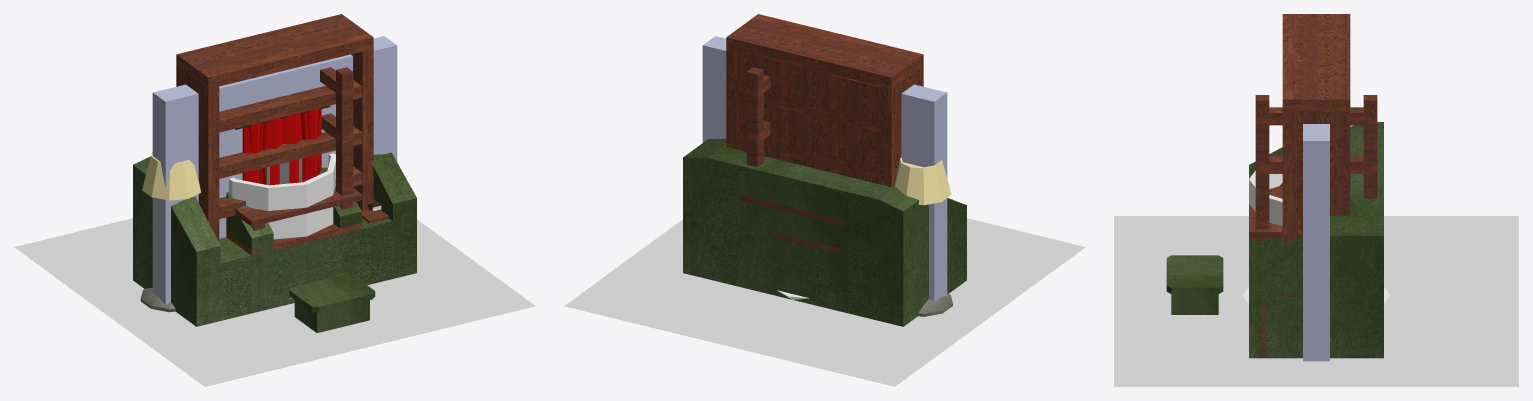
File: PSX_Household_Items_Pack.fbx
The picture shows the model from 3 angles, left to right: view 1: azimuth 30°, elevation 25°; view 2: azimuth 150°, elevation 25°; view 3: azimuth 270°, elevation 25°; orthographic projection. The views are drawn at different scales.
Parts seen in each view (by area): view 1: Carpet, Couch, Shelf, WallSimple, WallWithWindow, WallWithDoor, Chair, ArmChair, Mug, Footrest, CurtainClosed, StandingLamp (+2 smaller); view 2: Carpet, Couch, Shelf, ArmChair, WallSimple, WallWithDoor, Chair, StandingLamp, Table; view 3: Carpet, Couch, Shelf, WallSimple, Chair, Footrest, WallWithWindow, WallWithDoor, ArmChair, SideTable, Mug.
Boxes of the visible parts, x1,y1,x2,y2 form: Carpet: (14,218,535,386); Couch: (133,152,416,326); Shelf: (176,14,373,242); WallSimple: (152,36,397,304); WallWithWindow: (152,36,397,303); WallWithDoor: (152,36,397,303); Chair: (235,67,361,230); ArmChair: (226,167,361,312); Mug: (229,153,335,239); Footrest: (289,274,375,332); CurtainClosed: (235,105,330,185); StandingLamp: (140,151,200,312); Carpet: (564,218,1085,386); Couch: (683,139,966,326); Shelf: (726,14,923,187); ArmChair: (738,159,848,313); WallSimple: (702,36,947,302); WallWithDoor: (702,36,947,301); Chair: (738,67,848,226); StandingLamp: (895,157,952,316); Table: (738,223,848,254); Carpet: (1114,216,1518,386); Couch: (1249,122,1383,358); Shelf: (1282,14,1350,245); WallSimple: (1303,124,1329,361); Chair: (1249,95,1377,243); Footrest: (1166,255,1223,314); WallWithWindow: (1303,125,1329,361); WallWithDoor: (1303,124,1329,361); ArmChair: (1249,156,1383,265); SideTable: (1257,294,1302,358); Mug: (1249,156,1282,226).
Size of the model in its own units: 600 by 460 by 600.
